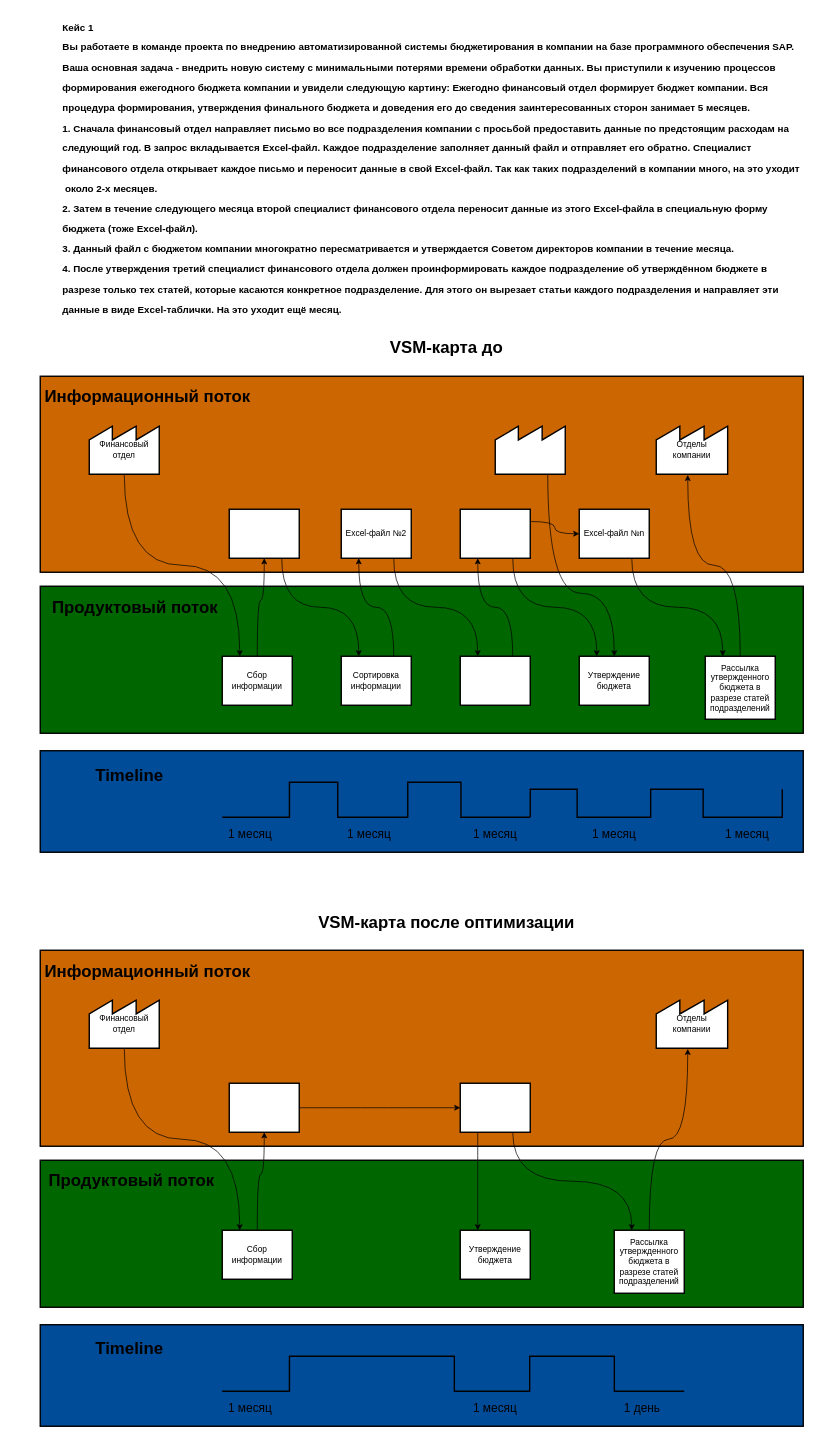
Image size: 822x1439. Some labels were removed from this diagram. Here are the shapes that lost their labels. From the top down, the centre of each, then its label:
[530,449]: Совет директоров
[264,533]: Excel-файл №1
[495,533]: Excel-файл №3
[495,680]: Формирование бюджета
[264,1107]: Excel-файл на общем ресурсе или форма в SAP
[495,1107]: Excel-файл c бюджетом или форма в SAP
